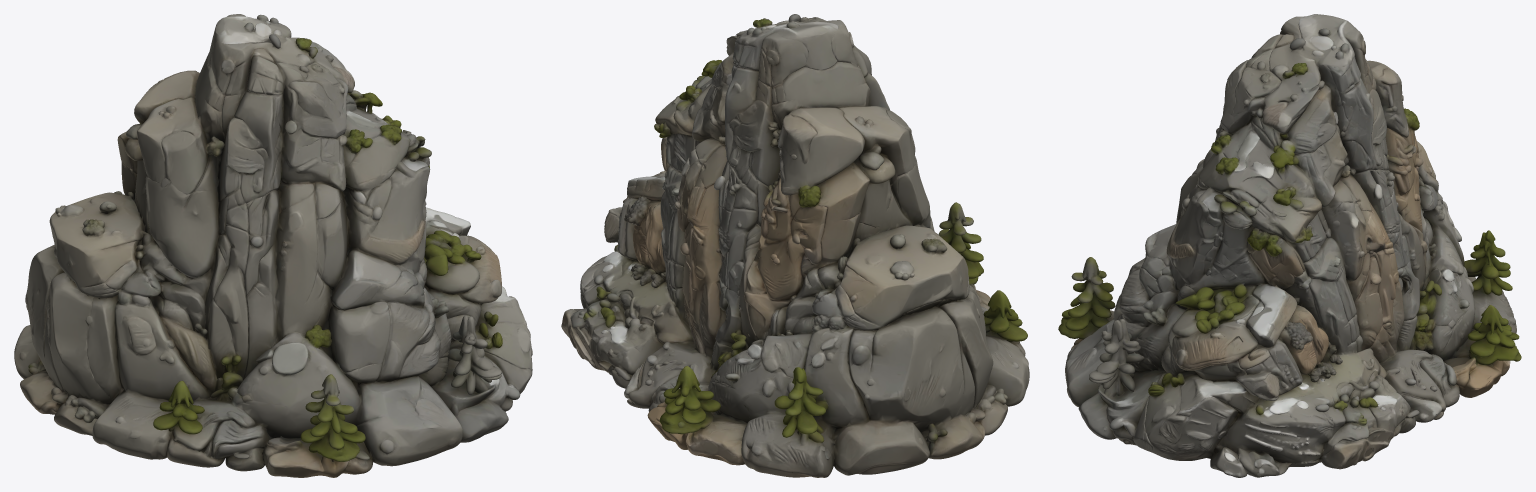
Rendered from raw.glb.
3 views of the same model, side by side, from view 1: azimuth 30°, elevation 25°; view 2: azimuth 150°, elevation 25°; view 3: azimuth 270°, elevation 25° (orthographic). The views are drawn at different scales.
Visible parts, largest first — view 1: tripo_node_5d3a1920-a5bf-4ad1-8504-2f00e64fca2a; view 2: tripo_node_5d3a1920-a5bf-4ad1-8504-2f00e64fca2a; view 3: tripo_node_5d3a1920-a5bf-4ad1-8504-2f00e64fca2a.
Part boxes in pixels (x1,y1,x2,y2): tripo_node_5d3a1920-a5bf-4ad1-8504-2f00e64fca2a: (14,14,532,477); tripo_node_5d3a1920-a5bf-4ad1-8504-2f00e64fca2a: (561,14,1029,477); tripo_node_5d3a1920-a5bf-4ad1-8504-2f00e64fca2a: (1058,14,1521,477).
Bounding box in the file's own units: 0.9794 × 0.7962 × 0.958.
Materials: 1 (1 with a texture image).
